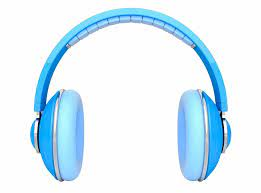headphone: (14, 1, 235, 184)
